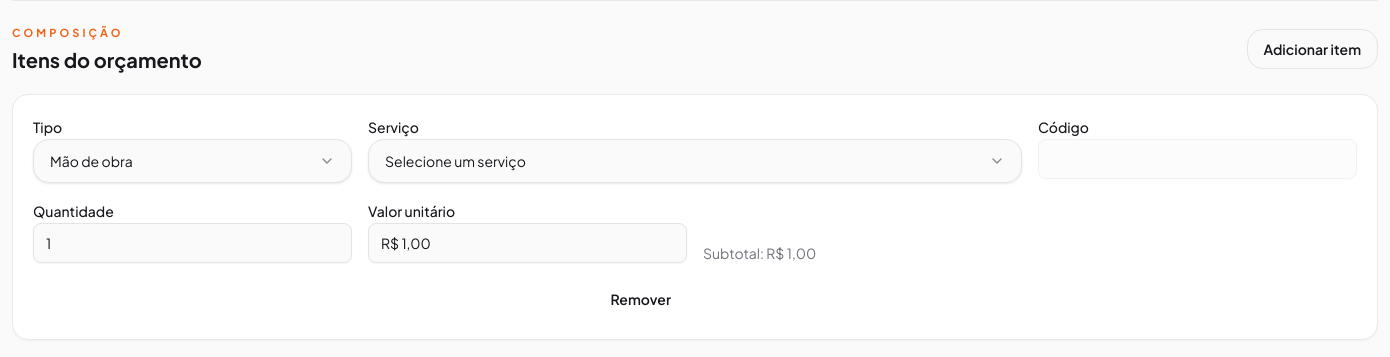
Test: BudgetItemsEditor › sincroniza servico selecionado com codigo, descricao, preco e subtotal
Click the dropdown labelled "Selecione um serviço".
click(455, 160)  # box [368,138,1022,182]
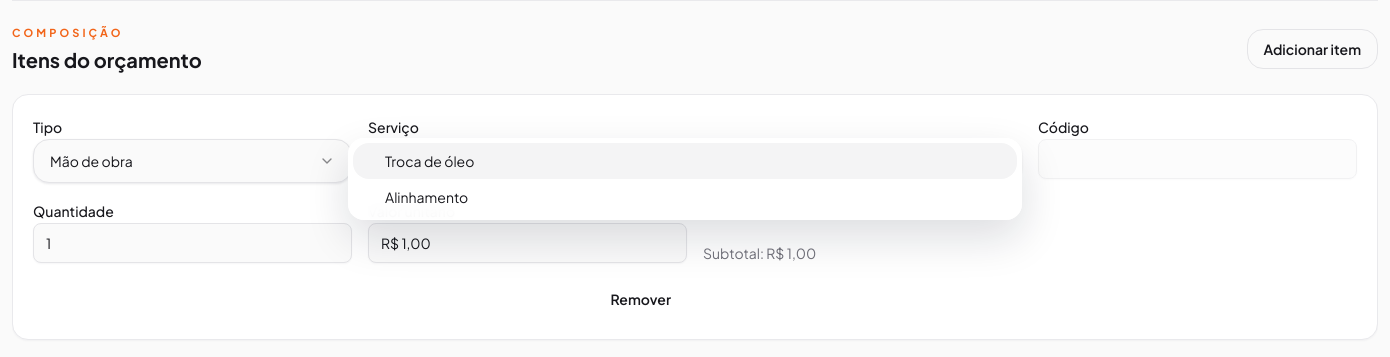
Click the option "Troca de óleo".
click(430, 160)  # box [353,142,1017,178]
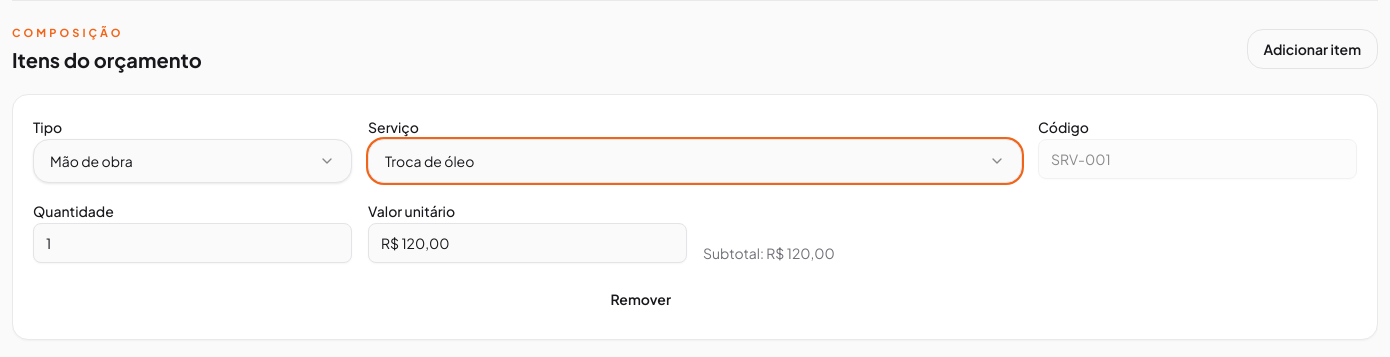
Expected: the field labelled "Código" holds "SRV-001", [1038,138,1357,178]
Expected: the text "Subtotal:" reads "Subtotal: R$ 120,00", [766,244,835,262]
